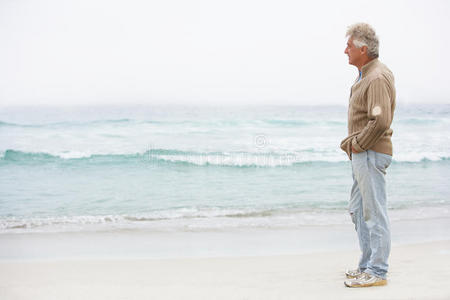standing: (327, 19, 402, 295)
